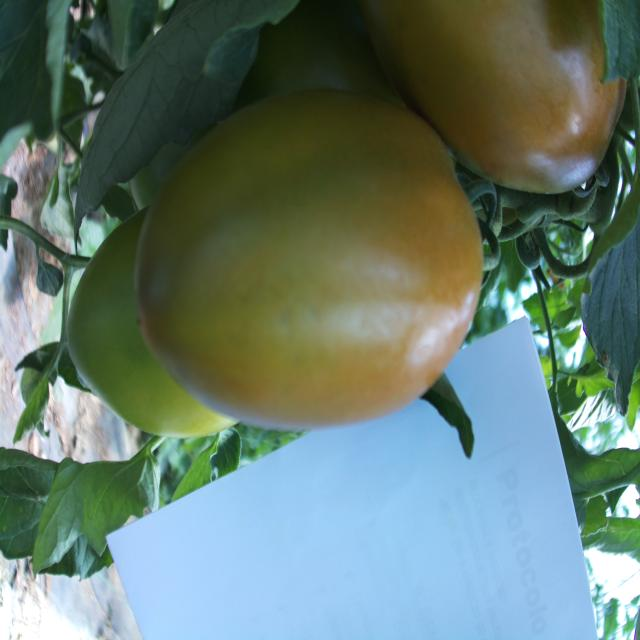yesil: (115, 63, 478, 440)
